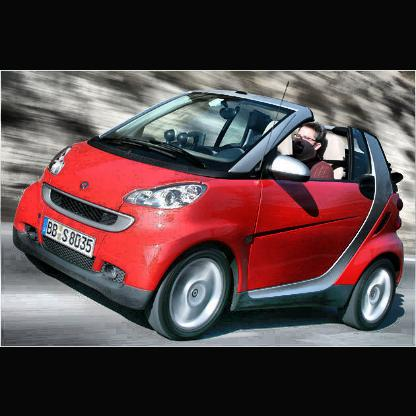smart fortwo Convertible 2012: (14, 88, 405, 342)
